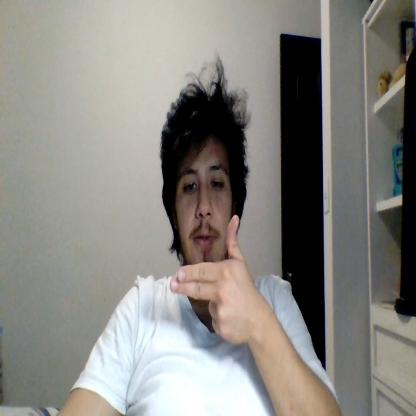H: (170, 215, 254, 345)
